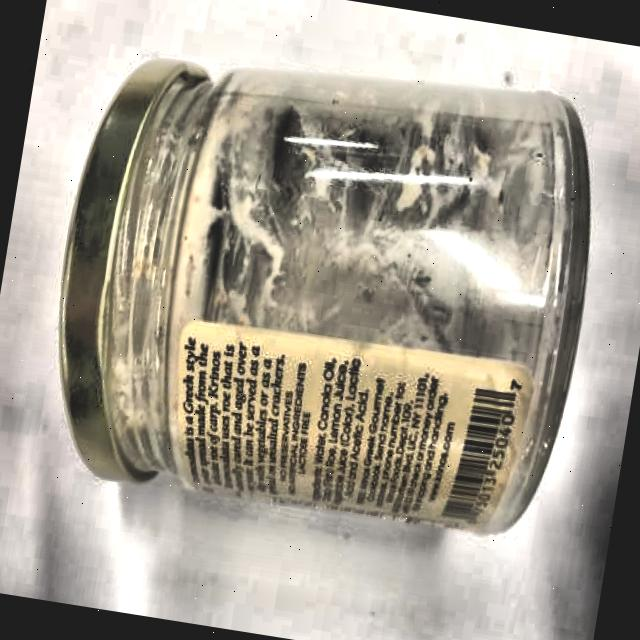glass: (28, 24, 617, 563)
